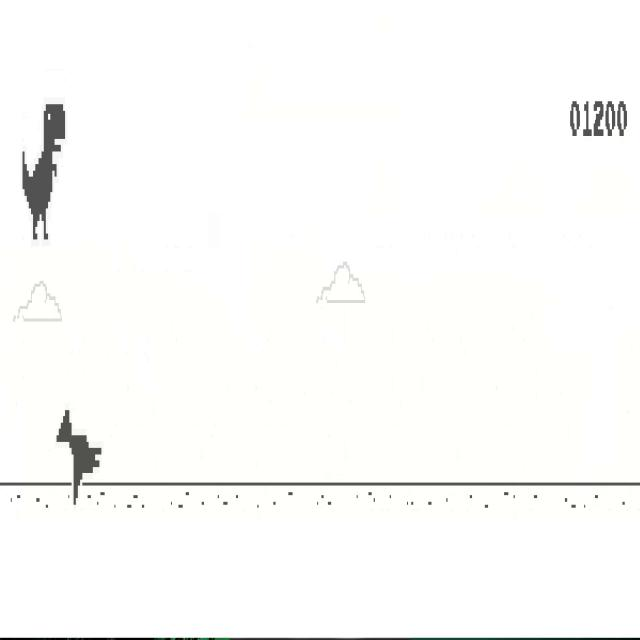dino: (22, 104, 65, 242)
ptero: (56, 409, 102, 506)
